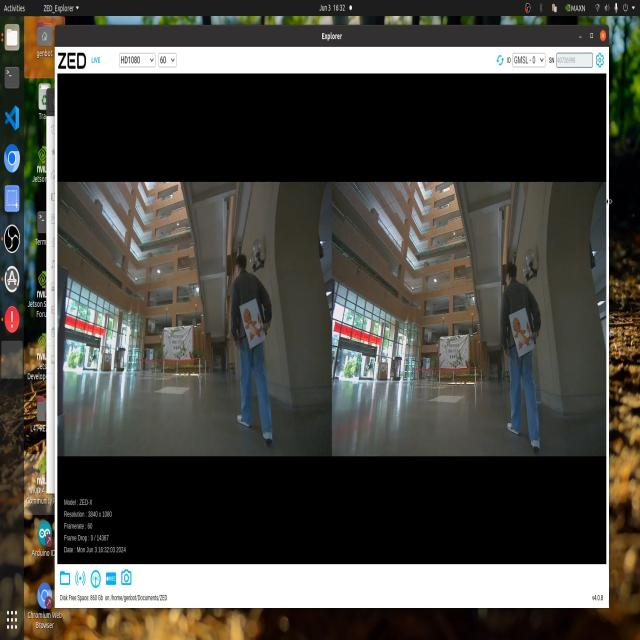red: (241, 306, 269, 342), (510, 310, 532, 354)
